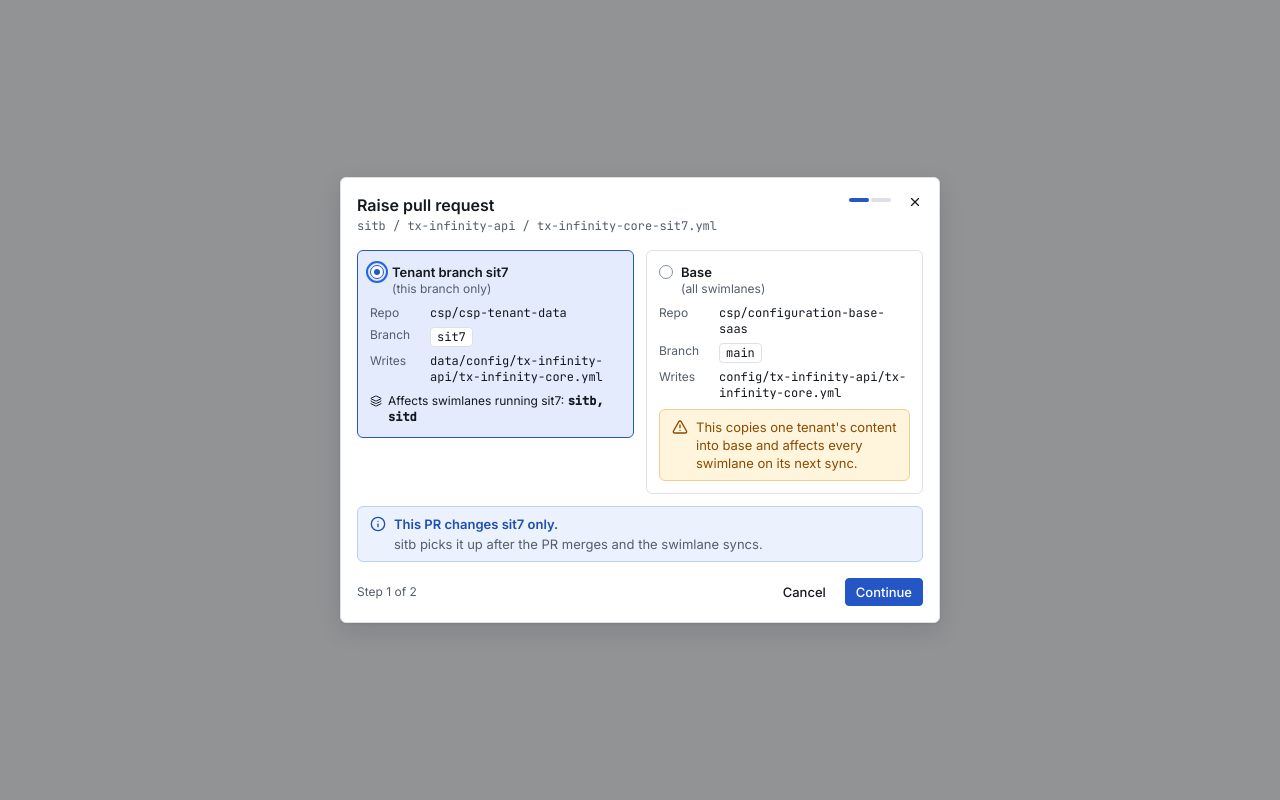
PrDialog: the title and the description (1e) › goes back to the targets, keeping the choice
Click the radio button named "Base": [666, 272] box [659,265,673,279]
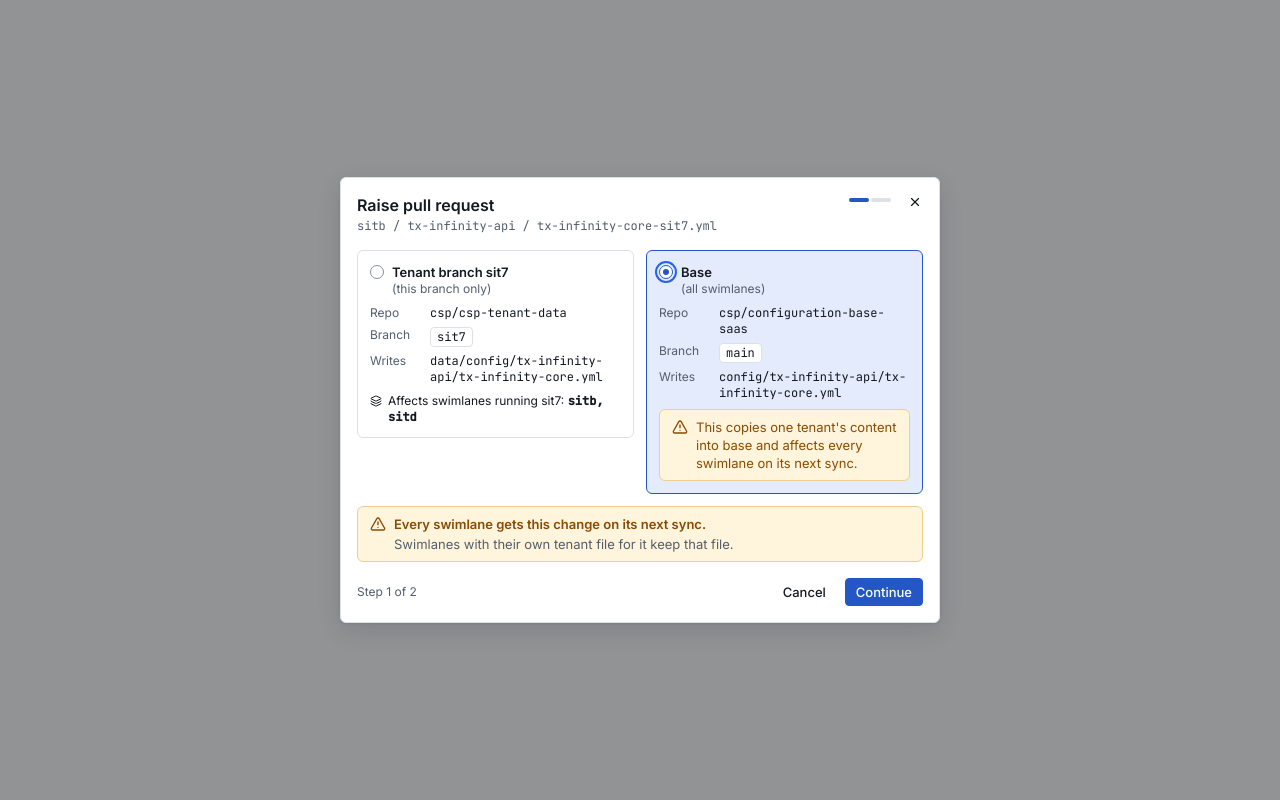
Click the button "Continue": [884, 592] box [845,578,923,606]
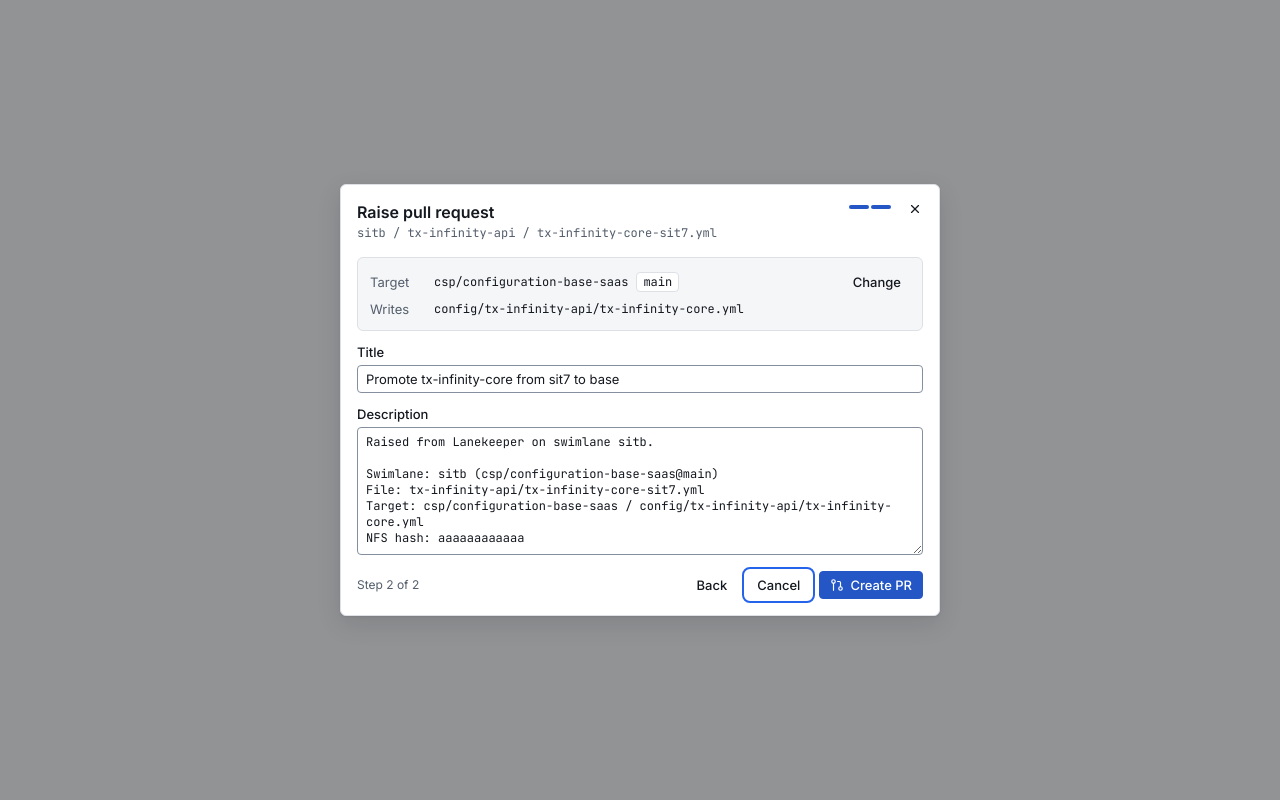
Click the button "Change": [877, 282] box [844,270,910,294]
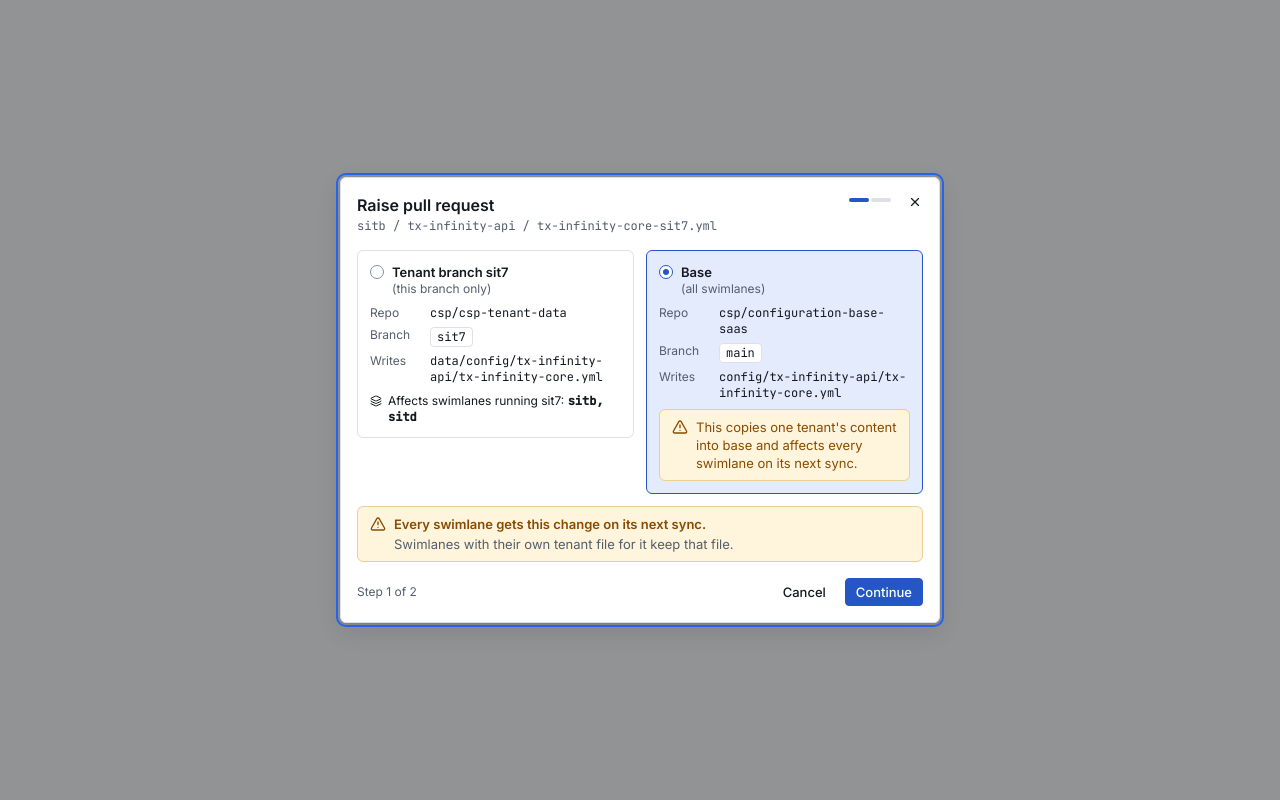
Expected: the radio button named "Base" is checked, [659,265,673,279]
